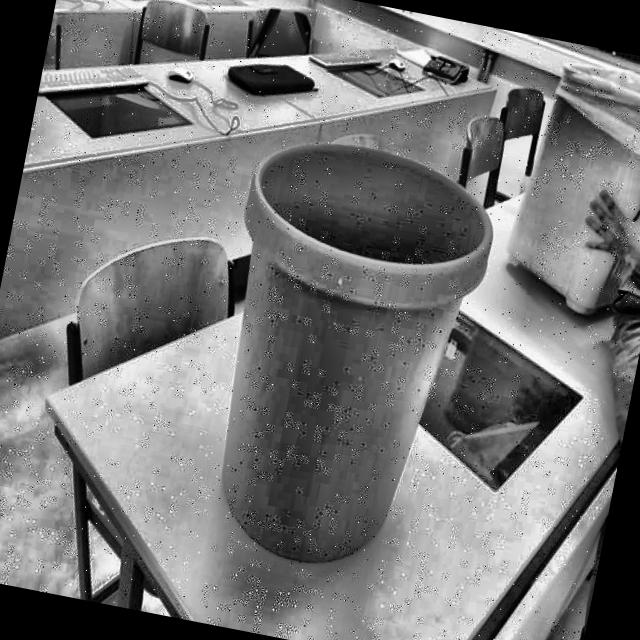Dustbin: (176, 76, 535, 616)
